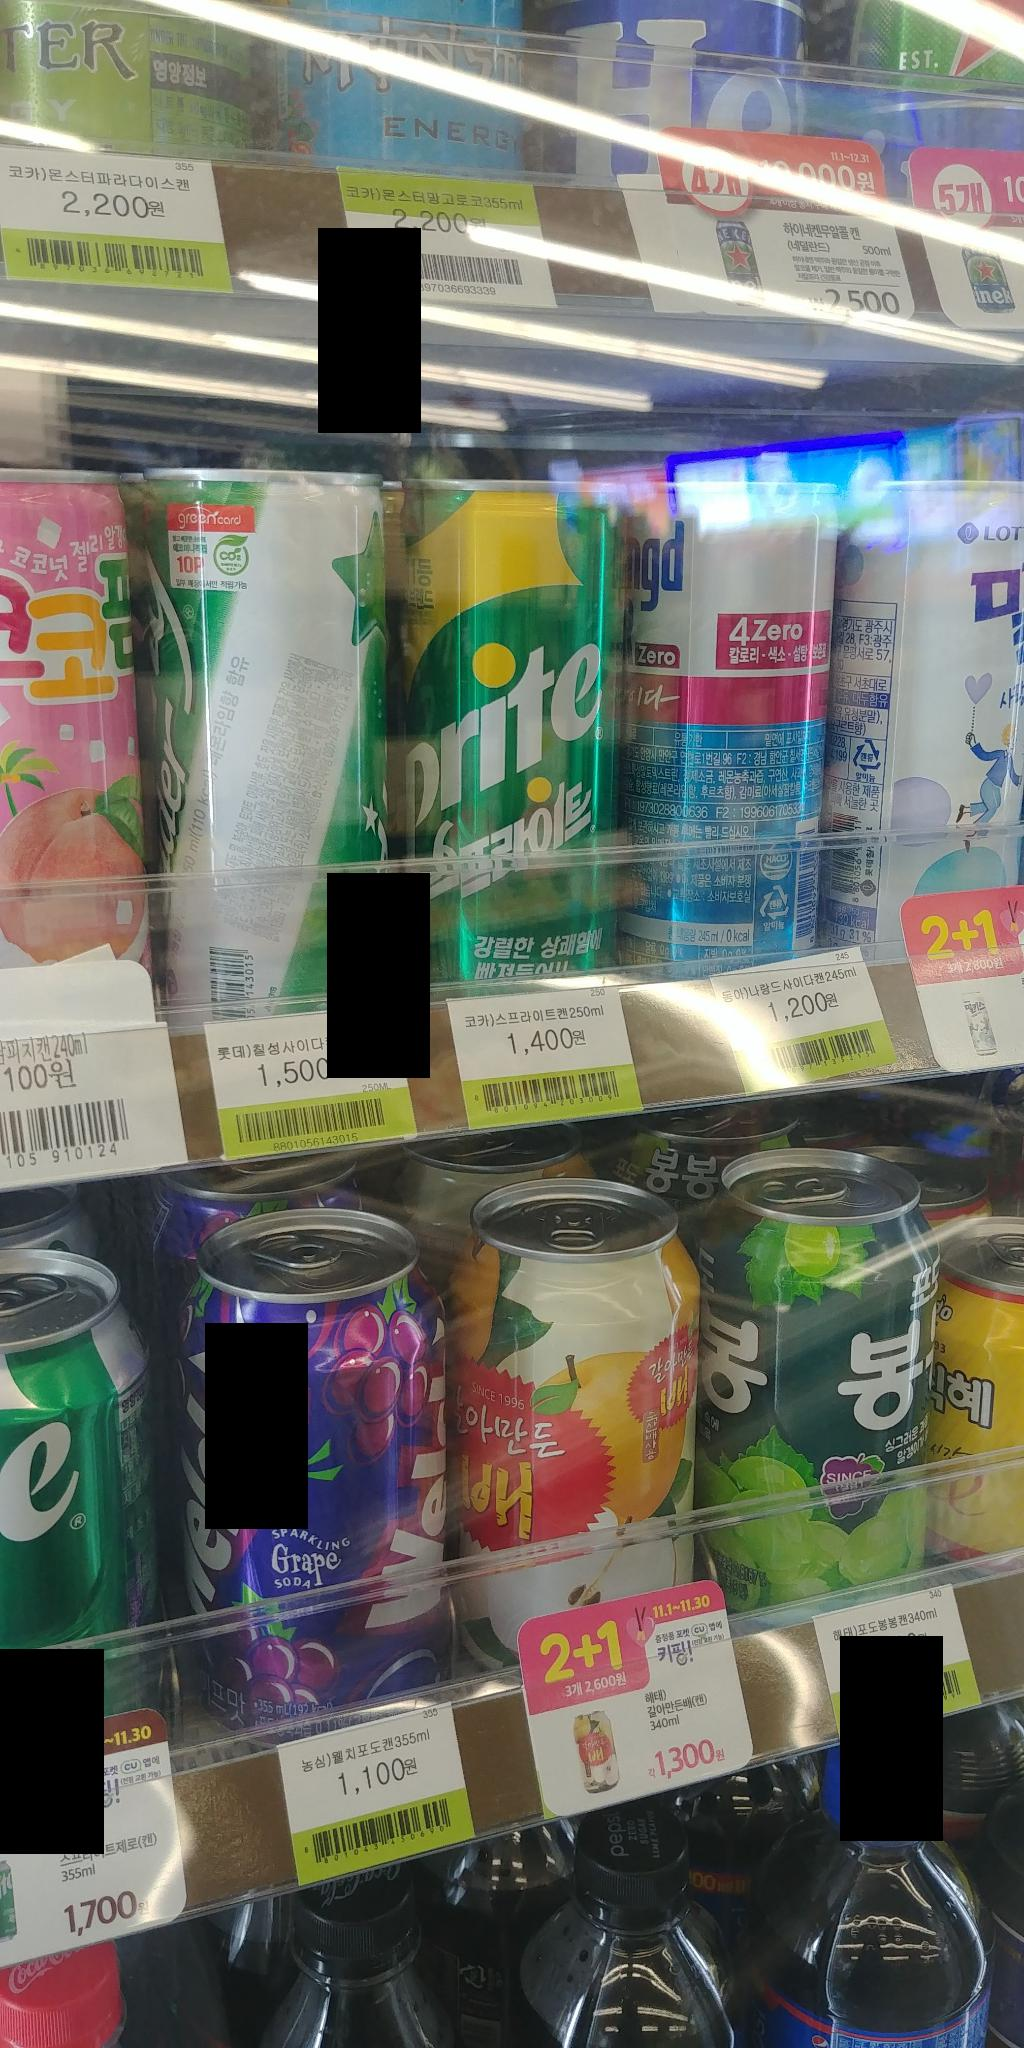narangdcider: (614, 470, 828, 991)
welchs_grape: (157, 1208, 478, 1737)
